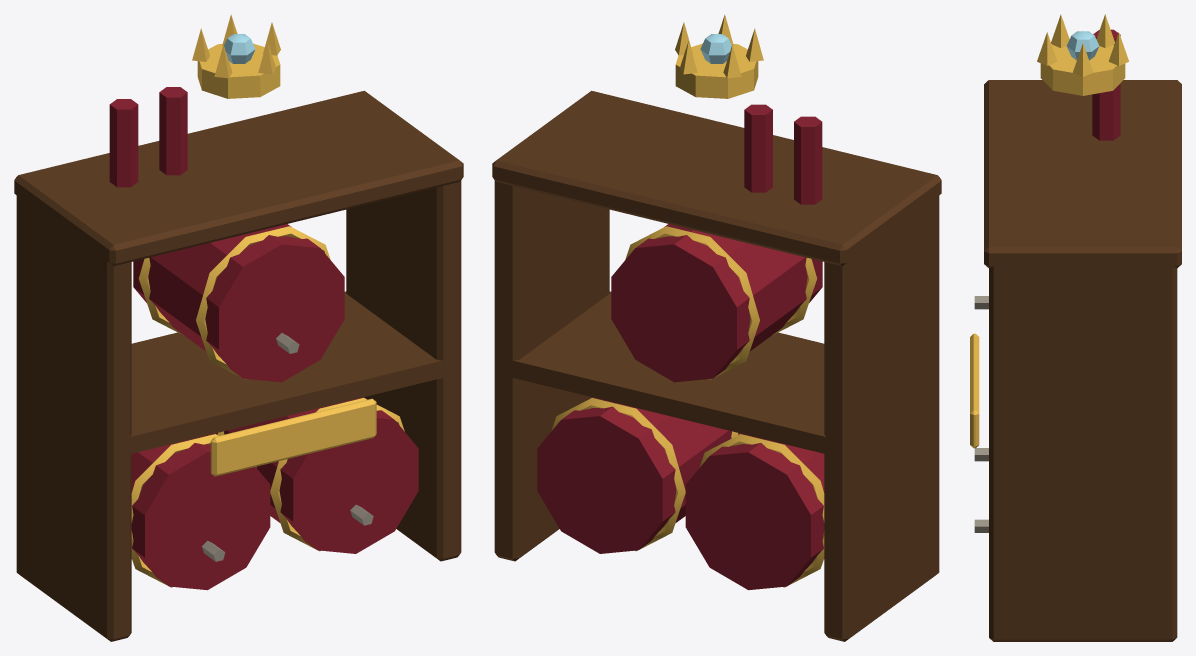
File: PR_Station_Sarap_T3.fbx
3 renders of one model, left to right at view 1: azimuth 30°, elevation 25°; view 2: azimuth 150°, elevation 25°; view 3: azimuth 270°, elevation 25°, orthographic.
Visible parts, largest first — view 1: PR_Station_Sarap_T3; view 2: PR_Station_Sarap_T3; view 3: PR_Station_Sarap_T3.
Part boxes in pixels (x1,y1,x2,y2): PR_Station_Sarap_T3: [14, 14, 463, 641]; PR_Station_Sarap_T3: [492, 14, 941, 641]; PR_Station_Sarap_T3: [970, 14, 1181, 641].
Size of the model in its own units: 0.86 by 1.25 by 0.45.
1 material, 1 textured.
